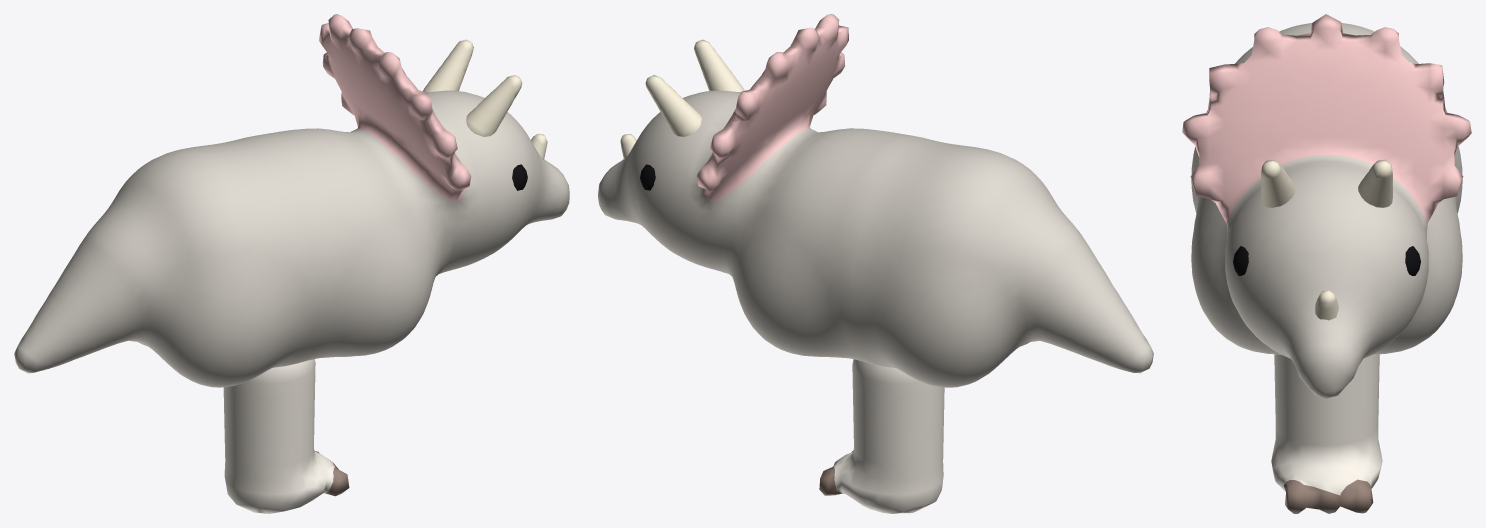
The model's file is triceratops_baby.glb.
The picture shows the model from 3 angles, left to right: view 1: azimuth 30°, elevation 25°; view 2: azimuth 150°, elevation 25°; view 3: azimuth 270°, elevation 25°; orthographic projection. The views are drawn at different scales.
Parts seen in each view (by area): view 1: body, leg, horn; view 2: body, leg, horn; view 3: body, leg, horn, eye.
Boxes of the visible parts, x1,y1,x2,y2 form: body: (14,14,569,387); leg: (223,359,349,513); horn: (423,39,547,159); body: (598,14,1153,387); leg: (819,359,944,513); horn: (620,39,744,159); body: (1182,14,1471,398); leg: (1271,354,1382,513); horn: (1261,159,1392,320); eye: (1233,246,1420,275).
Bounding box in the file's own units: 3.15 × 2.47 × 1.25.
